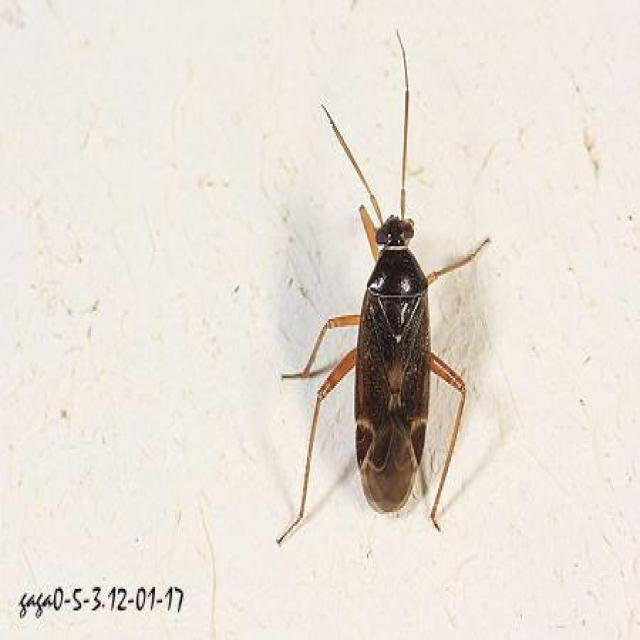Miridae-Adult-: (270, 19, 511, 564)
